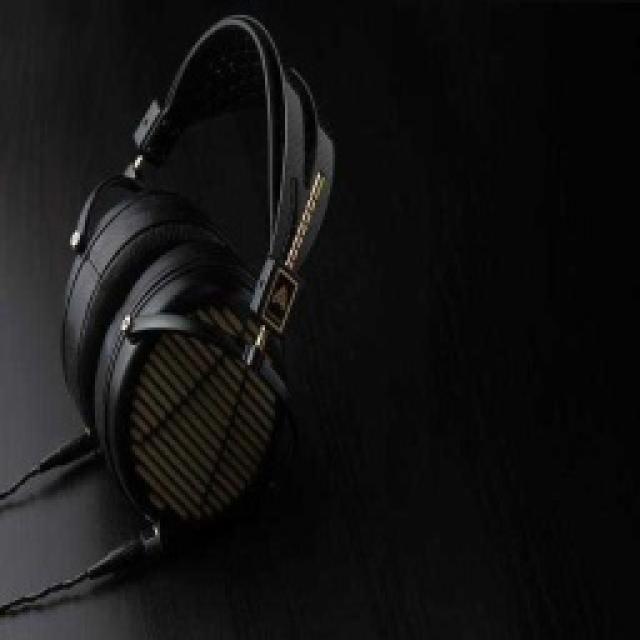headphones: (57, 10, 335, 530)
